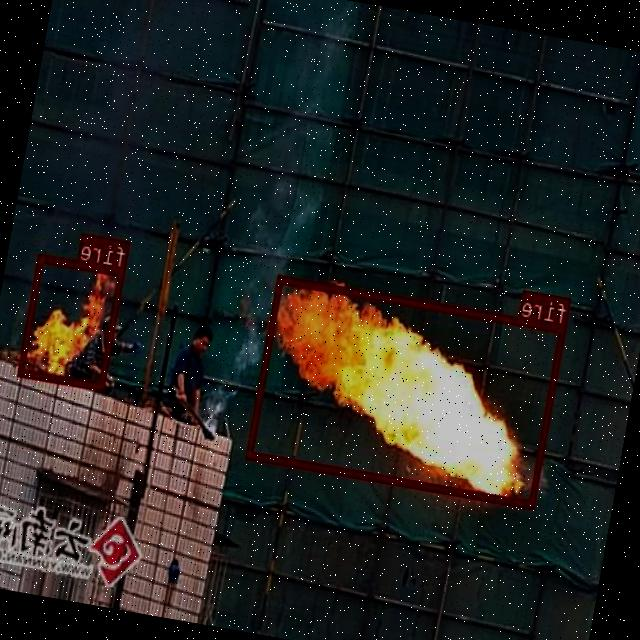fire: (247, 274, 568, 508), (19, 253, 126, 389)
